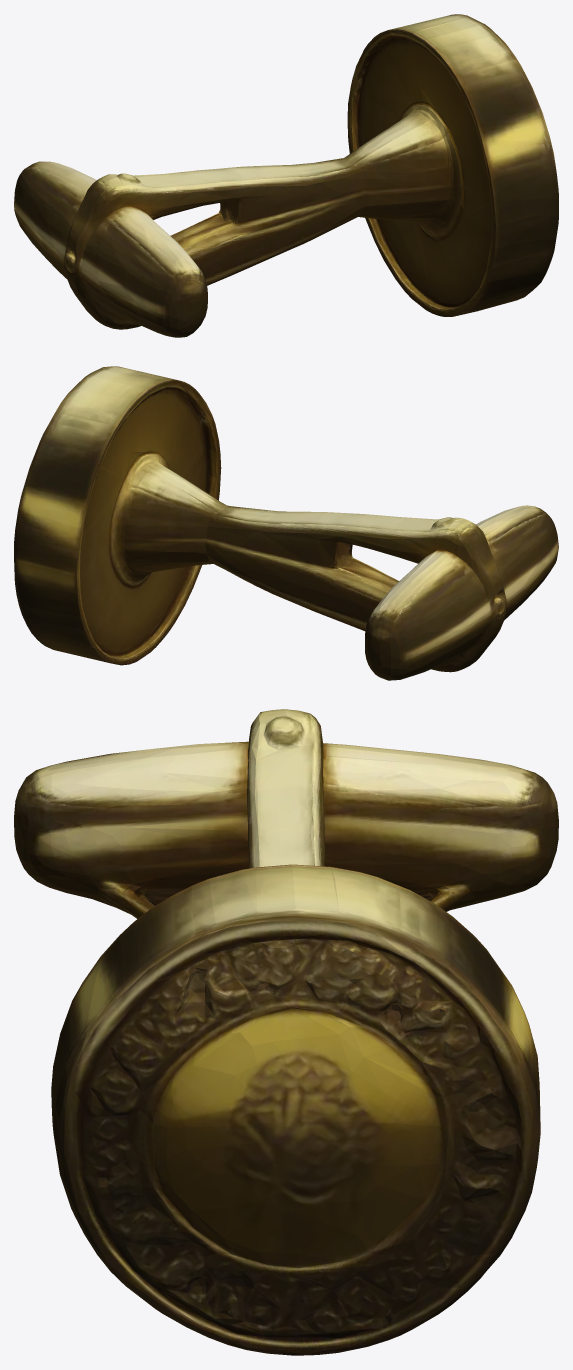
The model's file is cufflinks.glb.
The picture shows the model from 3 angles, top to bottom: view 1: azimuth 30°, elevation 25°; view 2: azimuth 150°, elevation 25°; view 3: azimuth 270°, elevation 25°; orthographic projection. The views are drawn at different scales.
Visible parts, largest first — view 1: geometry_0.021; view 2: geometry_0.021; view 3: geometry_0.021.
Boxes of the visible parts, <box> form: geometry_0.021: <box>14,14,558,337</box>; geometry_0.021: <box>14,366,558,680</box>; geometry_0.021: <box>14,709,558,1355</box>.
Bounding box in the file's own units: 0.0348 × 0.0205 × 0.0228.
1 material, 1 textured.
